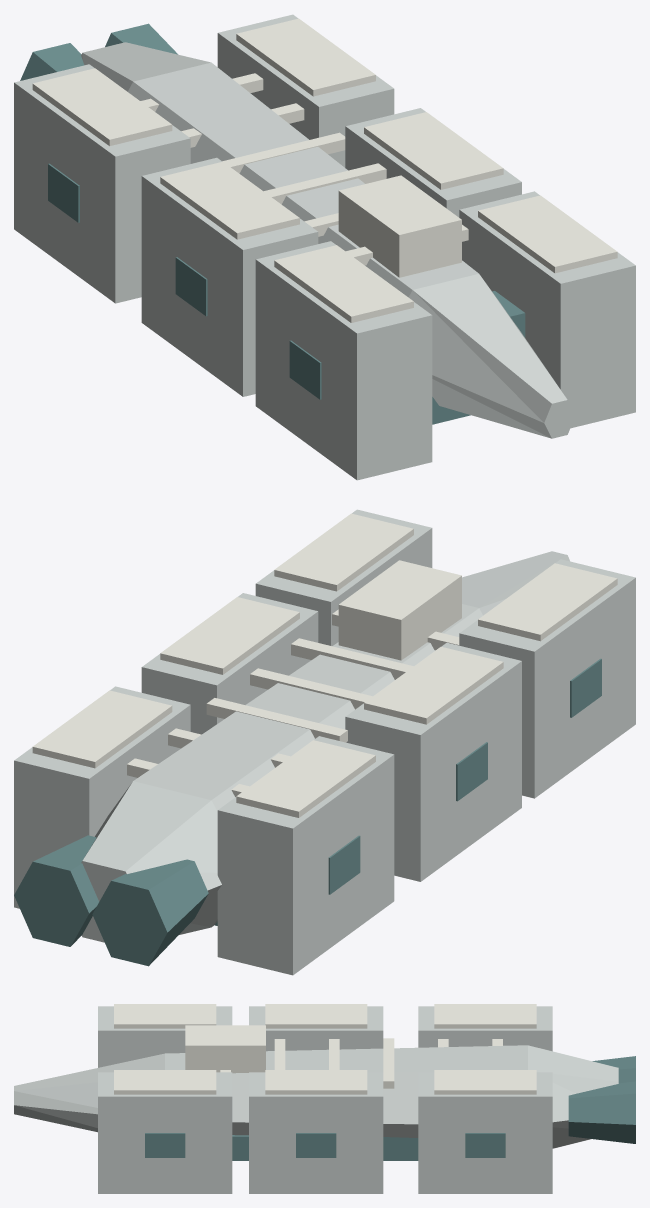
The picture shows the model from 3 angles, top to bottom: view 1: azimuth 30°, elevation 25°; view 2: azimuth 150°, elevation 25°; view 3: azimuth 270°, elevation 25°; orthographic projection. The views are drawn at different scales.
Size of the model in its own units: 3.6 by 2.08 by 10.37.
